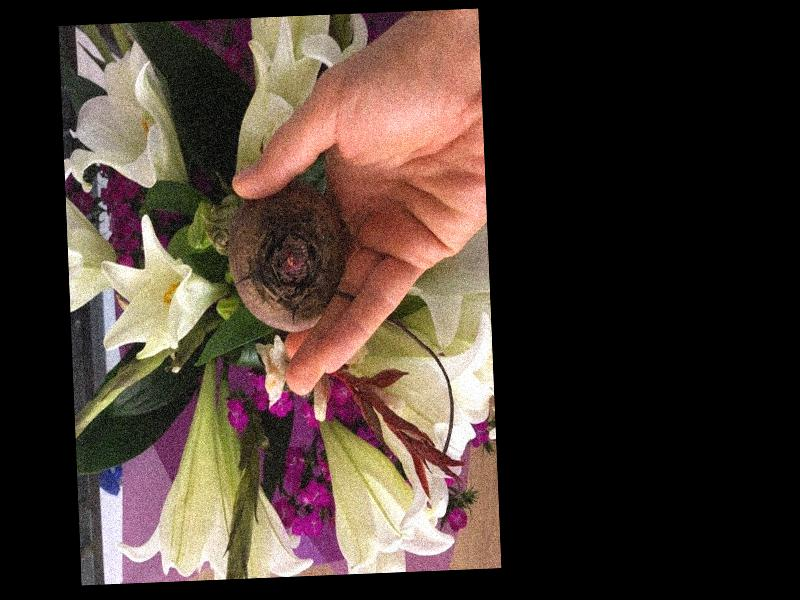Beet: (225, 181, 352, 337)
